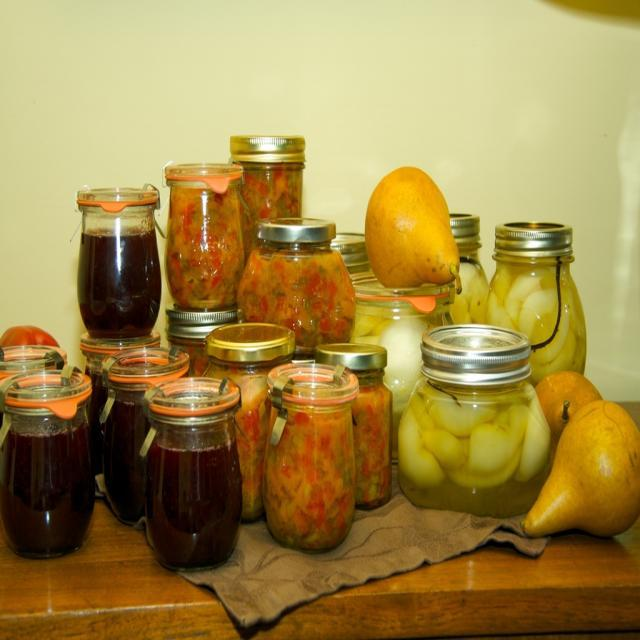Pear: (522, 399, 640, 541), (364, 166, 462, 294), (532, 369, 606, 471)
